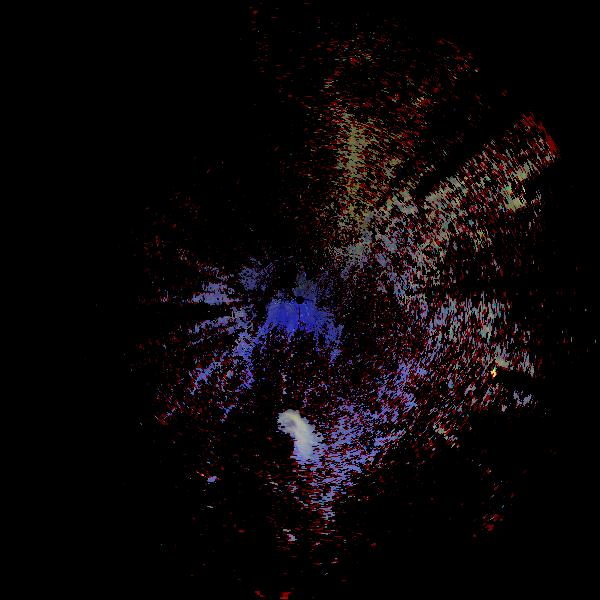roost: (270, 411, 309, 450)
